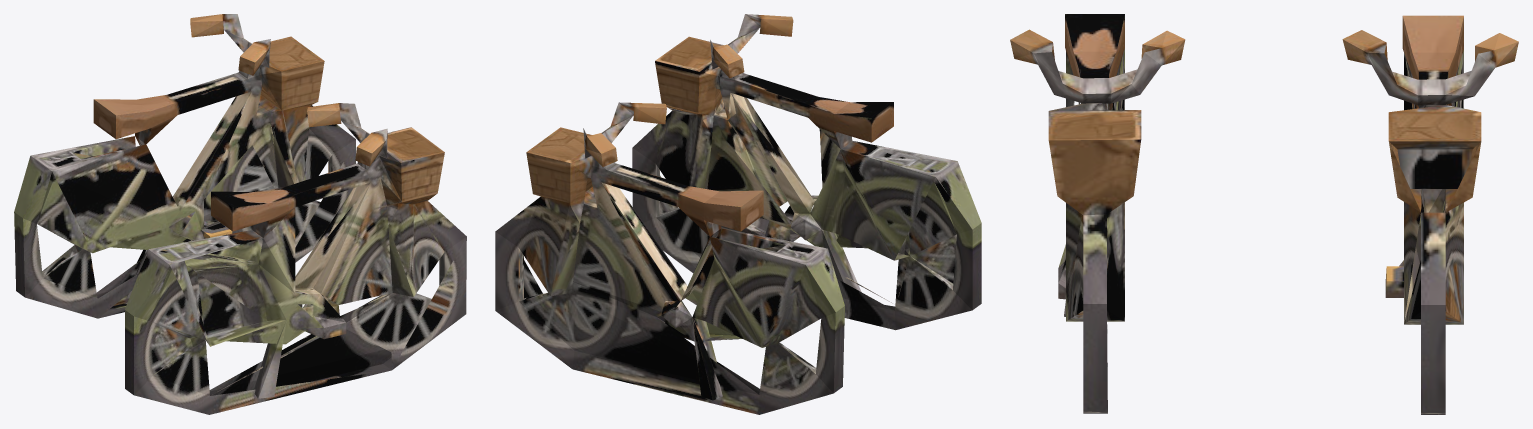
The model's file is bikes-C-mNlgmP.glb.
3 renders of one model, left to right at view 1: azimuth 30°, elevation 25°; view 2: azimuth 150°, elevation 25°; view 3: azimuth 270°, elevation 25°, orthographic. The views are drawn at different scales.
Parts seen in each view (by area): view 1: tripo_node_863132a7-0d6a-433a-b262-157828027b88; view 2: tripo_node_863132a7-0d6a-433a-b262-157828027b88; view 3: tripo_node_863132a7-0d6a-433a-b262-157828027b88.
Boxes of the visible parts, x1,y1,x2,y2 form: tripo_node_863132a7-0d6a-433a-b262-157828027b88: (14, 14, 466, 414); tripo_node_863132a7-0d6a-433a-b262-157828027b88: (495, 14, 981, 414); tripo_node_863132a7-0d6a-433a-b262-157828027b88: (1010, 14, 1518, 414).
Bounding box in the file's own units: 0.9777 × 0.6906 × 0.9049.
Materials: 1 (1 with a texture image).
